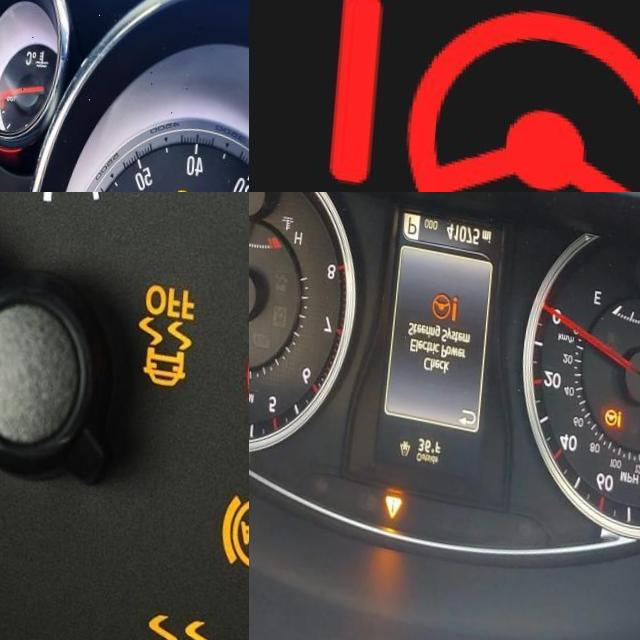Electronic Power Steering: (325, 0, 640, 192), (427, 276, 469, 315), (605, 386, 631, 416)
